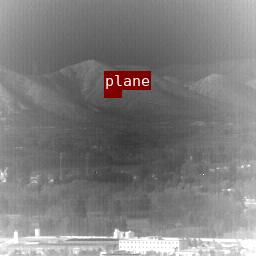plane: (104, 90, 121, 97)
